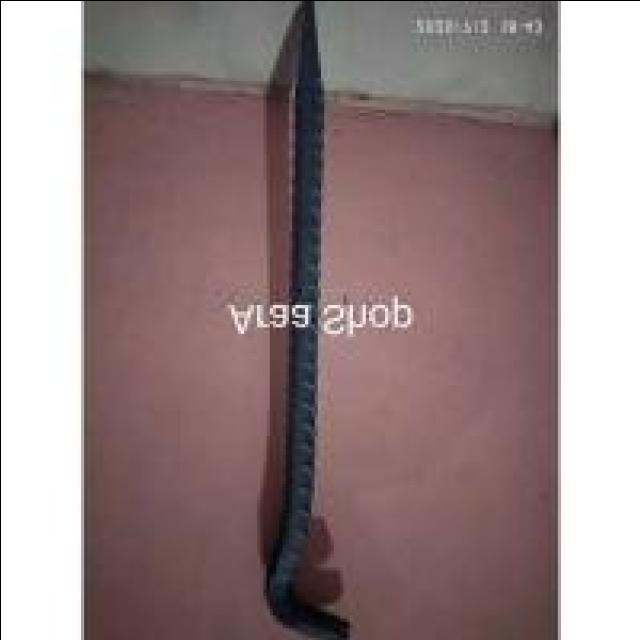Linggis: (263, 1, 355, 638)
